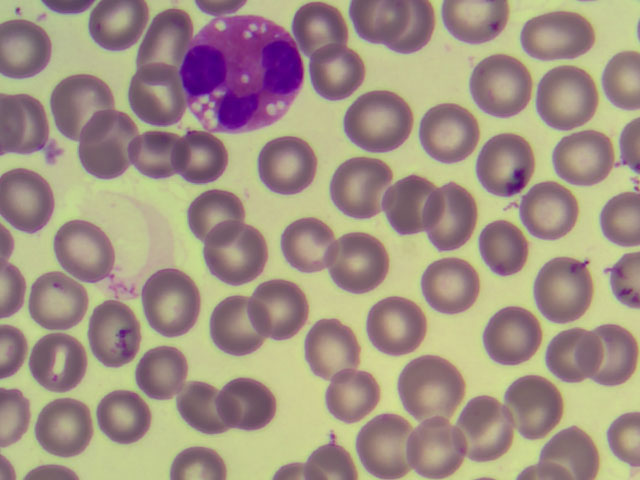RBC: (303, 419, 361, 480), (544, 419, 602, 480), (57, 74, 115, 134), (73, 115, 131, 175), (120, 129, 178, 189), (174, 130, 232, 190), (126, 68, 184, 128), (135, 10, 193, 70), (91, 4, 149, 64), (257, 140, 315, 200), (347, 90, 405, 150), (308, 48, 366, 108), (292, 1, 350, 61), (471, 55, 529, 115), (424, 102, 482, 162), (385, 171, 443, 231), (419, 185, 477, 245), (340, 161, 398, 221), (331, 237, 389, 297), (288, 225, 346, 285), (205, 224, 263, 284), (186, 186, 244, 246), (148, 277, 206, 337), (90, 310, 148, 370), (27, 260, 85, 320), (59, 230, 117, 290), (6, 169, 64, 229), (34, 322, 92, 382), (30, 400, 88, 460), (94, 393, 152, 453), (140, 343, 198, 403), (161, 375, 219, 435), (234, 383, 292, 443), (315, 366, 373, 426), (301, 321, 359, 381), (251, 277, 309, 337), (201, 301, 259, 361), (356, 298, 414, 358), (405, 354, 463, 414), (411, 410, 469, 470), (362, 415, 420, 475), (470, 404, 528, 464), (494, 381, 552, 441), (478, 313, 536, 373), (419, 254, 477, 314), (476, 222, 534, 282), (518, 177, 576, 237), (487, 136, 545, 196), (558, 134, 616, 194), (545, 68, 603, 128), (533, 4, 591, 64), (538, 259, 596, 319), (548, 322, 606, 382), (576, 323, 634, 383), (349, 1, 407, 60), (380, 1, 438, 60), (450, 1, 508, 60), (1, 19, 58, 79), (1, 94, 58, 154)
WBC: (186, 20, 303, 128)
